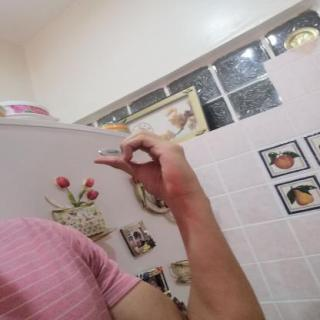WAW: (83, 124, 207, 208)
